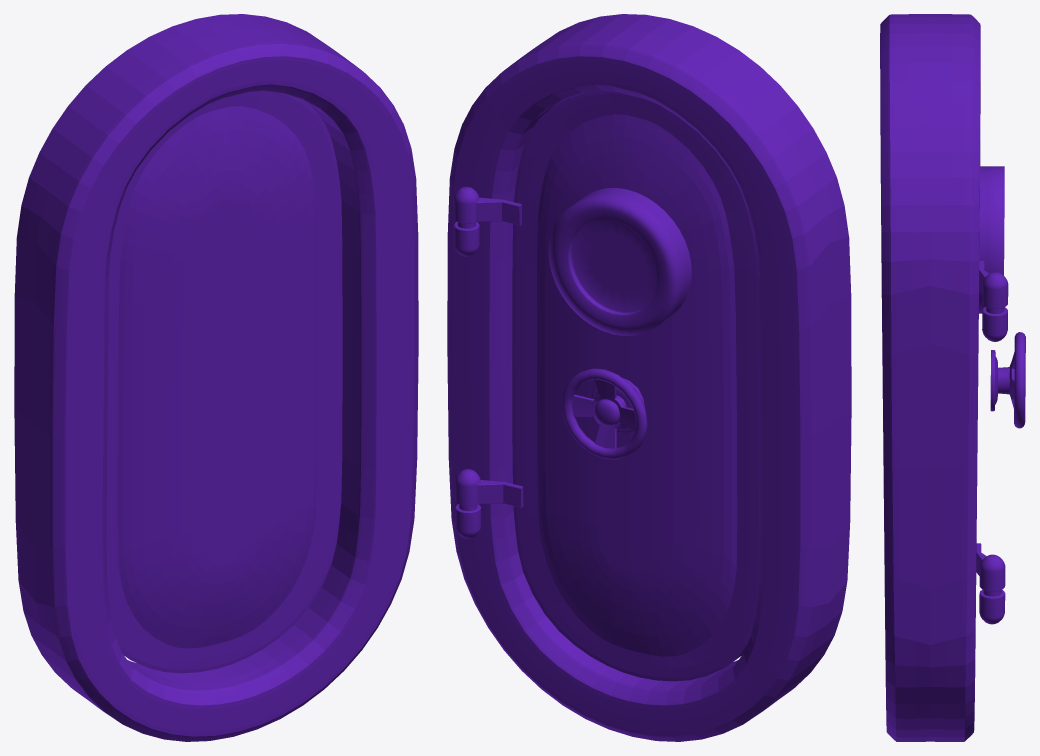
File: PuertaArreglada.fbx
The picture shows the model from 3 angles, left to right: view 1: azimuth 30°, elevation 25°; view 2: azimuth 150°, elevation 25°; view 3: azimuth 270°, elevation 25°; orthographic projection.
Parts seen in each view (by area): view 1: marcoPuerta, Puerta001; view 2: marcoPuerta, Puerta001, port_window, pTorus256, pCylinder29, pCylinder18, pCube112, pCylinder17, pCylinder26; view 3: marcoPuerta, port_window, pTorus256, pCylinder29, pCylinder18, pCube112, pCylinder26, pCylinder17.
Part boxes in pixels (x1,y1,x2,y2): marcoPuerta: (14,14,418,741); Puerta001: (106,90,342,673); marcoPuerta: (447,14,851,741); Puerta001: (512,90,759,681); port_window: (548,188,691,335); pTorus256: (561,368,647,459); pCylinder29: (455,469,523,507); pCylinder18: (453,186,521,225); pCube112: (591,378,644,432); pCylinder17: (454,222,479,256); pCylinder26: (455,504,480,538); marcoPuerta: (880,14,980,741); port_window: (979,166,1004,313); pTorus256: (1009,332,1025,428); pCylinder29: (976,543,1005,591); pCylinder18: (979,260,1008,308); pCube112: (990,350,1009,411); pCylinder26: (979,589,1005,624); pCylinder17: (982,307,1007,341).
Size of the model in its own units: 1.64 by 2.95 by 0.5649.
